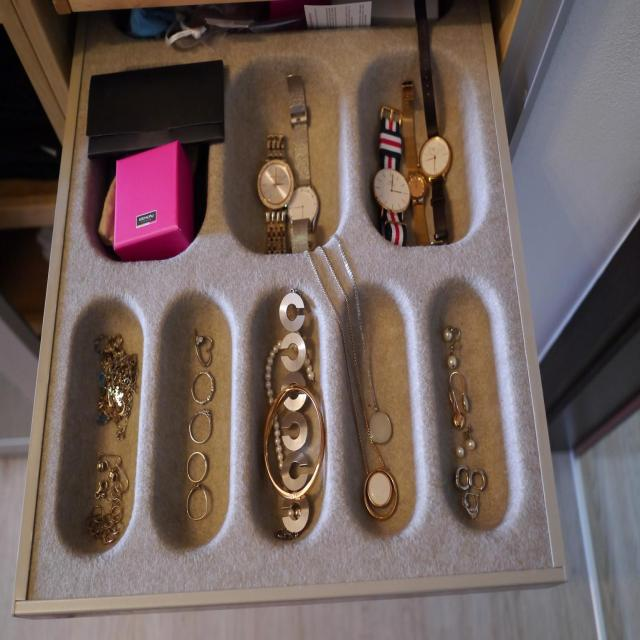Wrist watch: (373, 2, 454, 244), (256, 68, 321, 256)
